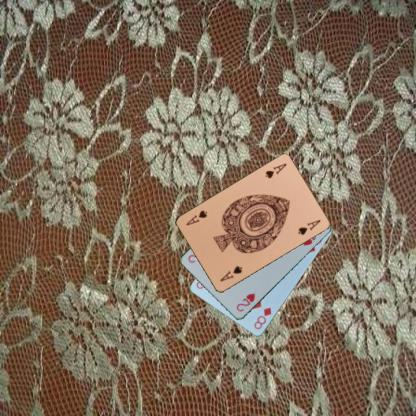2h: (234, 291, 257, 313)
8d: (251, 305, 273, 331)
As: (217, 264, 243, 283), (262, 161, 288, 180)
